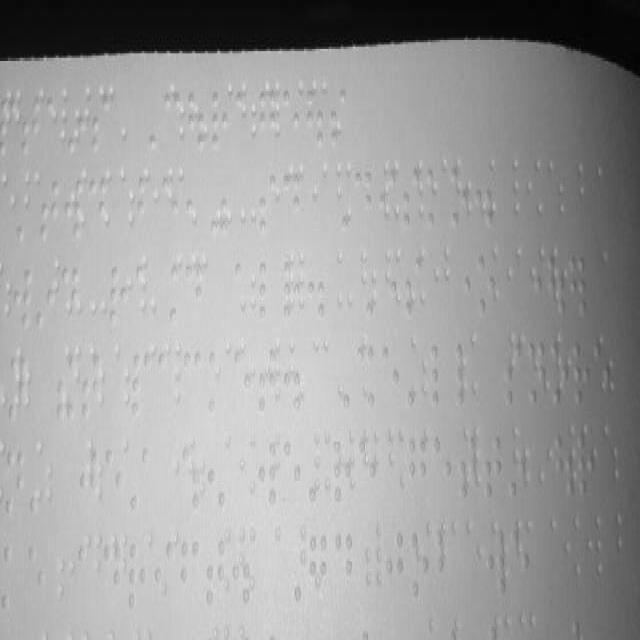braiile: (1, 540, 25, 620), (332, 531, 356, 611), (178, 536, 202, 614), (256, 438, 280, 512), (26, 538, 48, 618), (384, 526, 406, 606), (3, 448, 27, 521), (130, 354, 154, 424), (127, 540, 149, 616), (486, 524, 506, 604), (280, 166, 302, 238), (183, 258, 205, 329), (107, 258, 129, 329), (204, 540, 226, 611), (102, 541, 122, 619), (256, 256, 278, 326), (80, 354, 102, 424), (483, 434, 505, 504), (76, 542, 96, 618), (13, 264, 34, 336), (407, 436, 428, 506), (157, 351, 176, 427), (354, 166, 374, 238), (432, 342, 452, 414), (105, 444, 125, 516), (40, 178, 60, 249), (477, 249, 497, 320), (182, 351, 202, 422), (572, 340, 592, 411), (89, 174, 108, 248), (433, 434, 453, 504), (282, 436, 302, 506), (258, 90, 278, 159), (258, 170, 278, 239), (380, 343, 400, 412), (402, 164, 421, 236), (20, 94, 42, 156), (210, 88, 230, 156), (90, 91, 110, 158), (575, 434, 595, 499), (233, 347, 250, 422), (136, 178, 156, 240), (163, 90, 181, 154)
